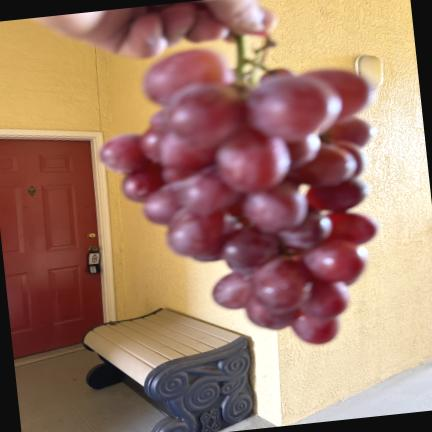grape_cluster: (101, 36, 378, 344)
